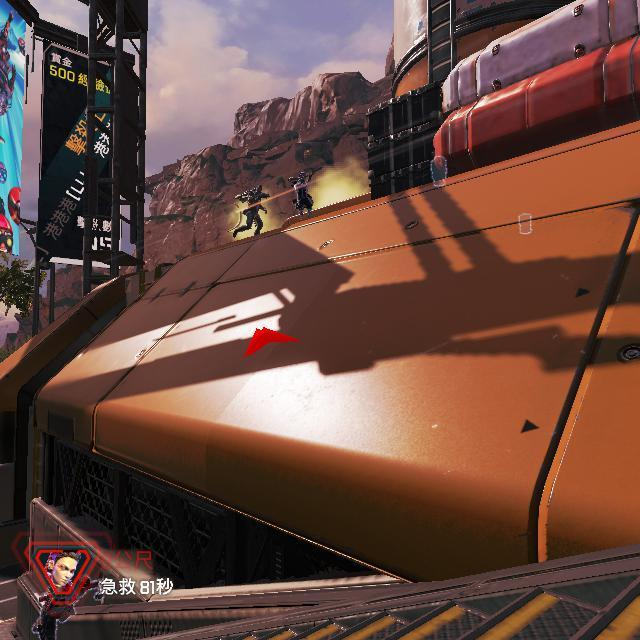avatar: (241, 183, 270, 239), (292, 170, 315, 223)
